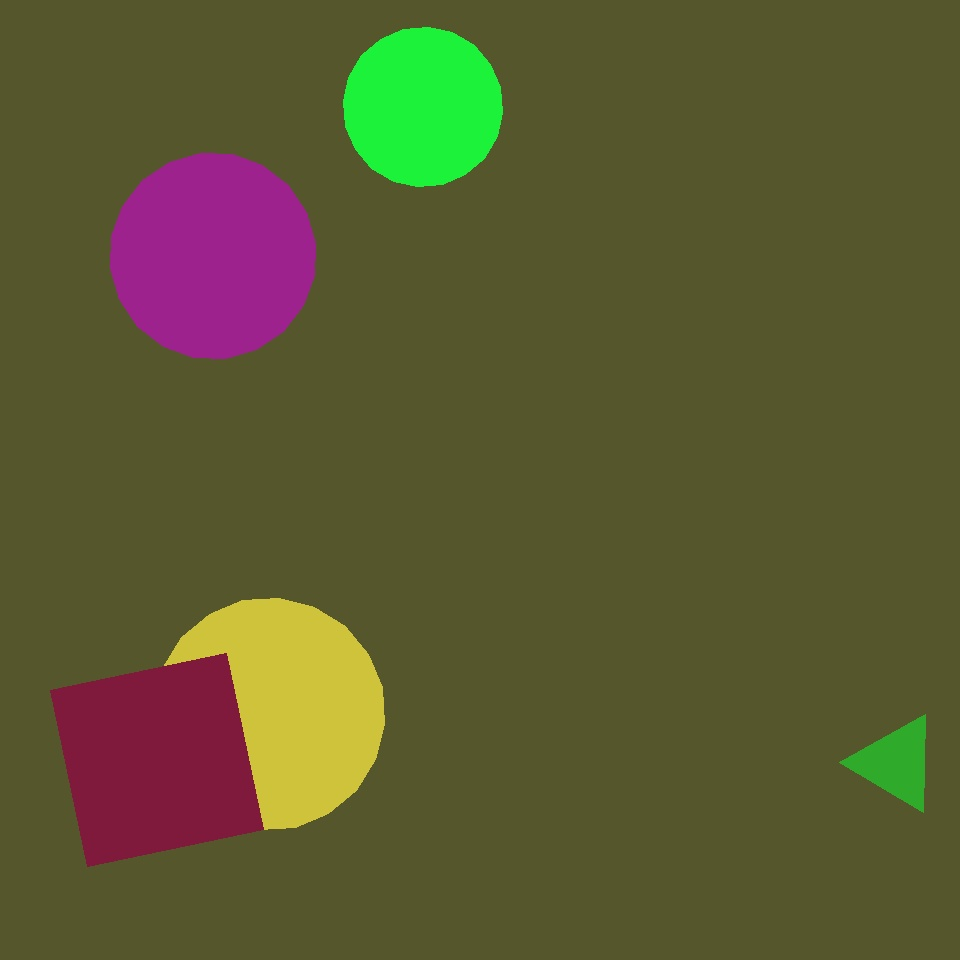circle: (446, 291, 667, 512), (853, 714, 939, 812)
square: (80, 521, 331, 773), (51, 654, 264, 866), (750, 853, 832, 936)
triangle: (500, 579, 848, 926), (112, 468, 379, 734), (220, 610, 471, 861), (154, 598, 384, 830), (110, 154, 316, 358), (344, 28, 502, 186)
